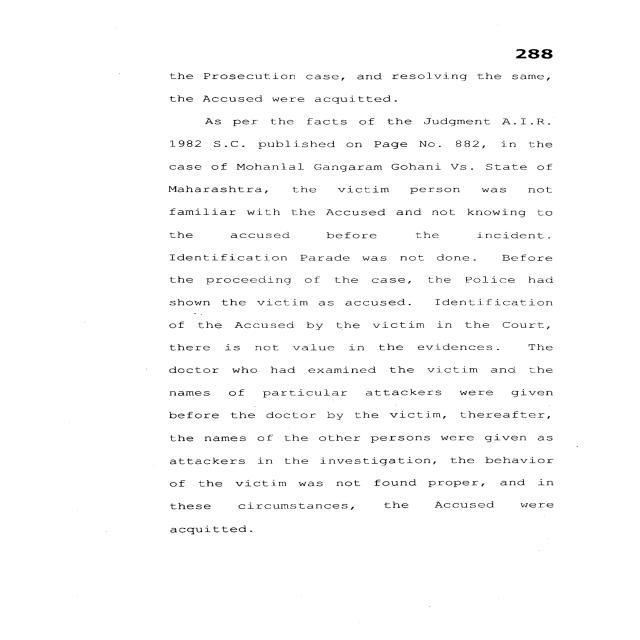page-number: (430, 1, 636, 66)
